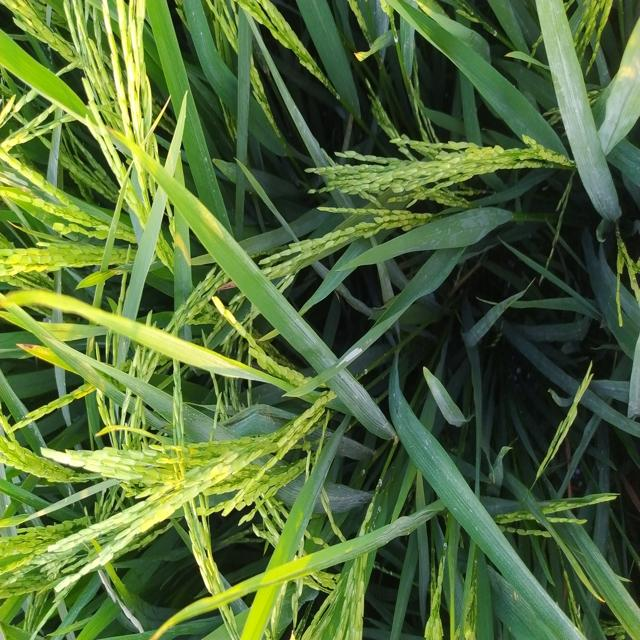brown plant hopper: (326, 331, 378, 374)
